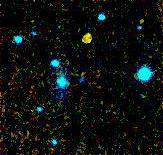star: (74, 24, 104, 54)
